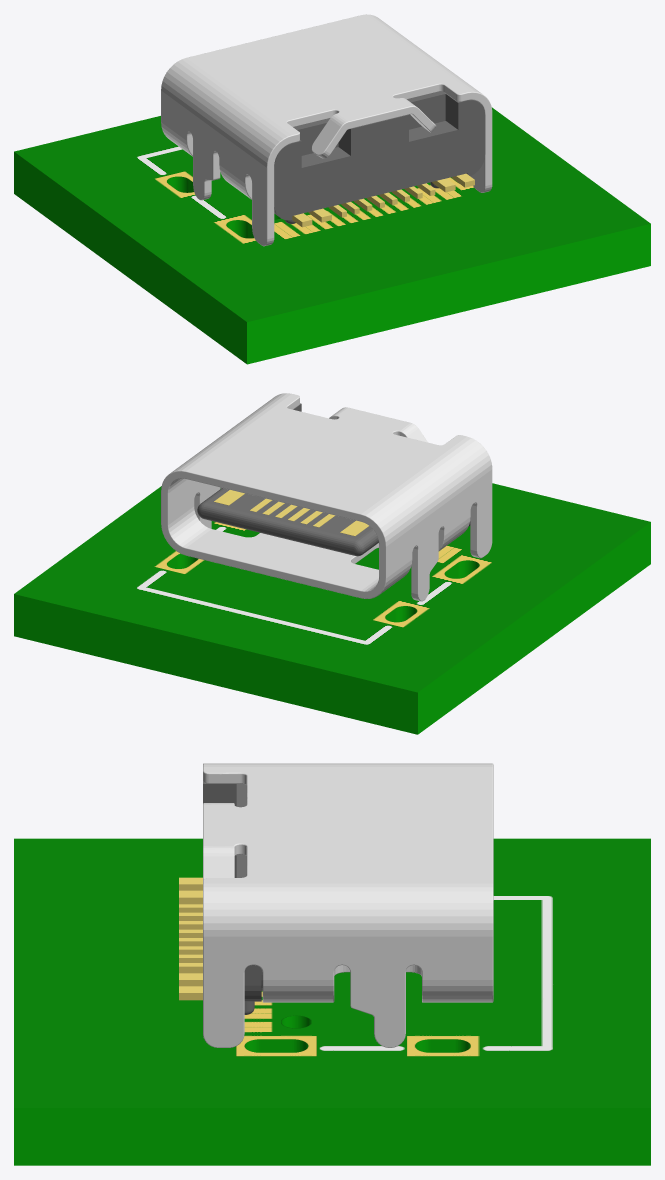
File: C165948-to-ts-simple-3d.snap.glb
The picture shows the model from 3 angles, top to bottom: view 1: azimuth 30°, elevation 25°; view 2: azimuth 150°, elevation 25°; view 3: azimuth 270°, elevation 25°; orthographic projection. The views are drawn at different scales.
Visible parts, largest first — view 1: Box0, OBJBox1; view 2: Box0, OBJBox1; view 3: Box0, OBJBox1.
Part boxes in pixels (x1,y1,x2,y2): Box0: [14, 107, 650, 364]; OBJBox1: [161, 14, 492, 246]; Box0: [14, 483, 650, 734]; OBJBox1: [161, 393, 492, 601]; Box0: [14, 838, 650, 1165]; OBJBox1: [179, 763, 493, 1047].
Bounding box in the file's own units: 16 × 5.7 × 16.
Materials: 7 (2 with a texture image).
